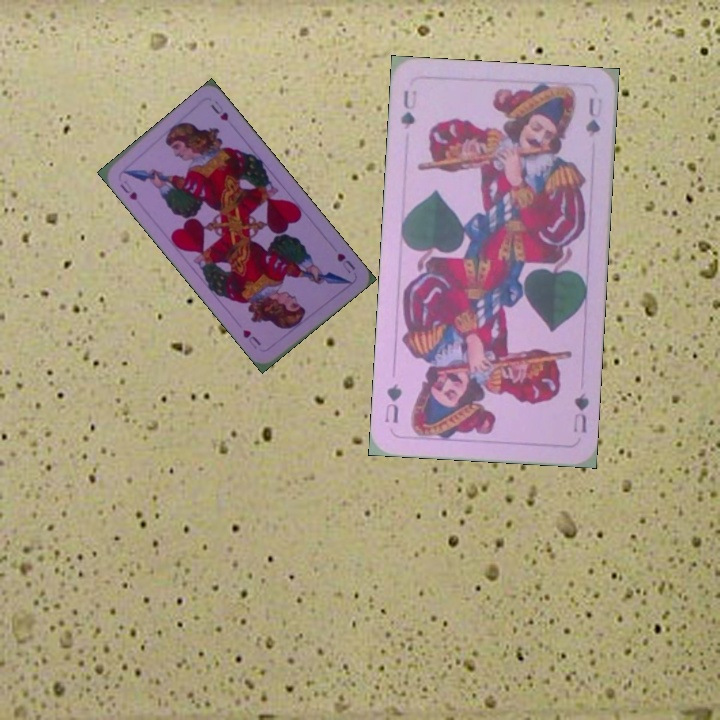GU: (569, 389, 592, 435), (396, 86, 419, 131)
HU: (333, 249, 358, 276), (115, 180, 140, 203)
